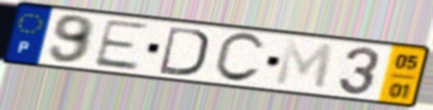3: (335, 45, 382, 97)
9: (45, 13, 100, 66)
C: (211, 31, 268, 85)
D: (157, 24, 211, 79)
E: (90, 17, 151, 73)
M: (273, 38, 336, 93)
